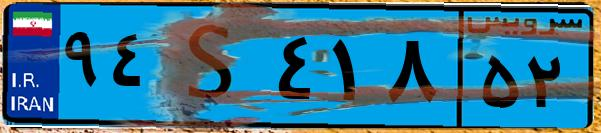1: (330, 28, 385, 110)
2: (525, 38, 570, 115)
4: (270, 28, 330, 110), (110, 28, 158, 98)
5: (475, 38, 525, 113)
8: (385, 28, 445, 110)
9: (57, 26, 110, 100)
S: (158, 12, 270, 120)
